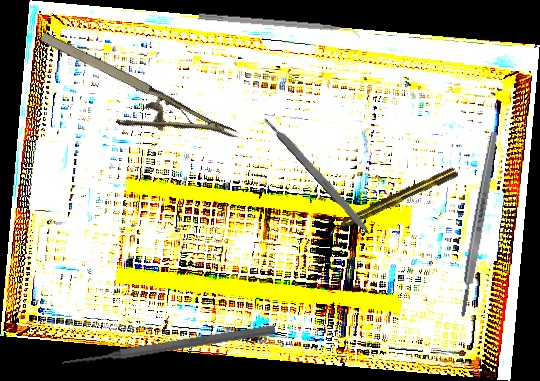Chopper: (197, 12, 362, 43)
Handpiece: (325, 165, 460, 237)
Needle Holder: (22, 26, 241, 178)
Pusher: (60, 322, 276, 370)
Scalpel Handle: (262, 113, 374, 237), (456, 129, 501, 319)
